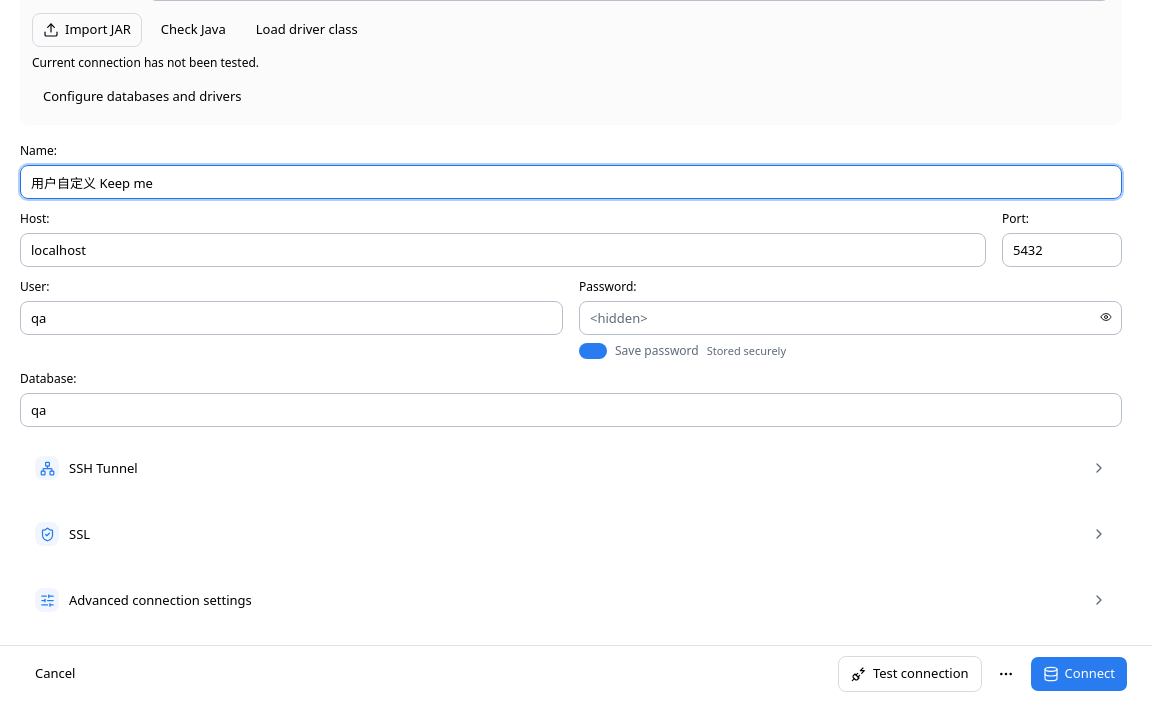
Test: invalidates a completed result when database changes
The width and height of the screenshot is (1152, 701).
(page scrolled)
Click the button "Test connection" at (910, 674), box [838,656,982,692]
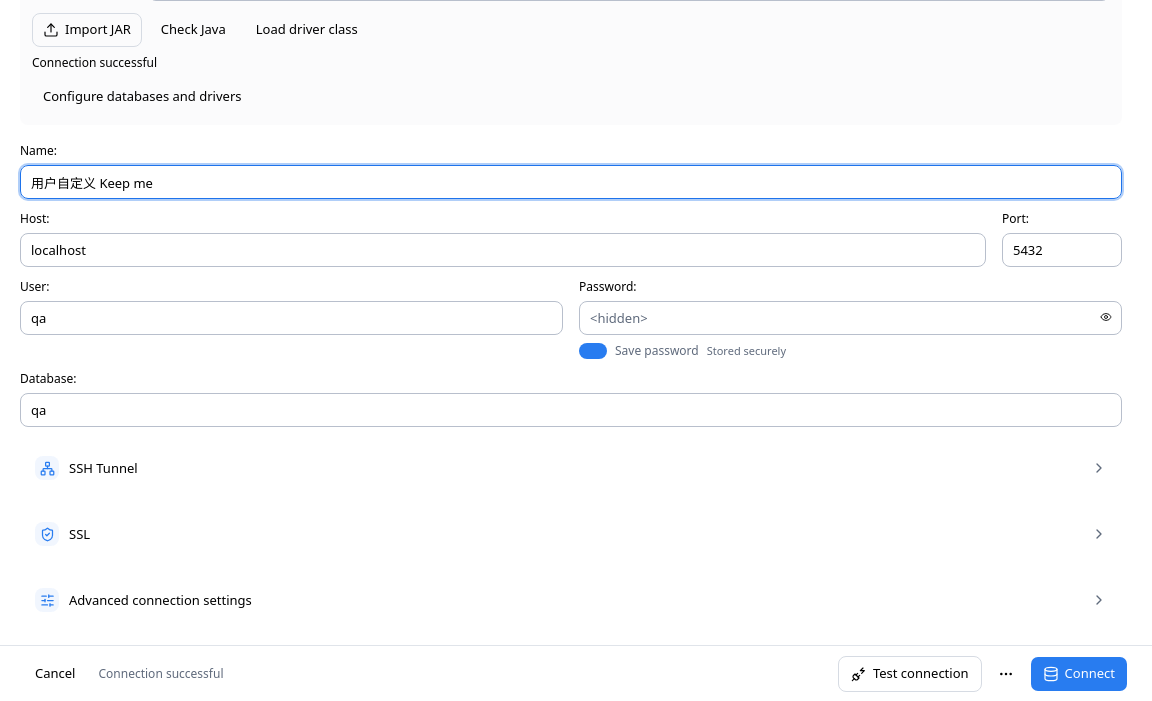
Replace the text in the field labelled "Database:" with "other" at (571, 410), box [20,393,1122,427]
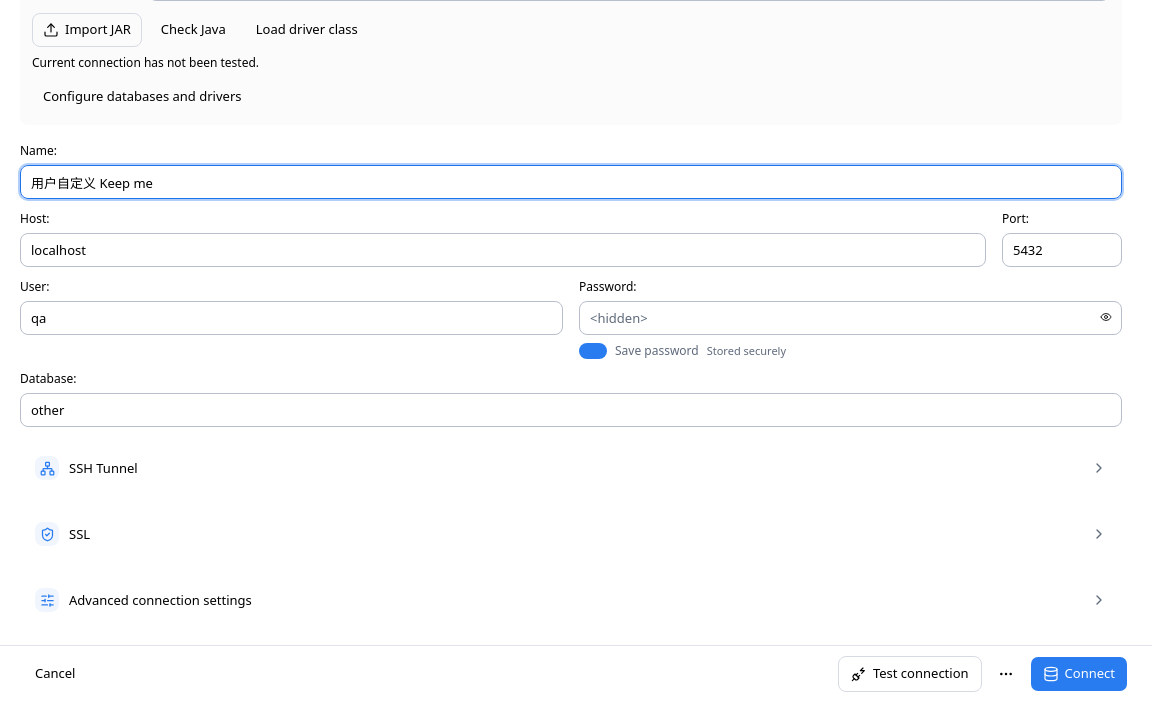
Expected: the text "Connection successful" is gone
Expected: the text "Current connection has not been tested." is shown, [32,54,259,71]
